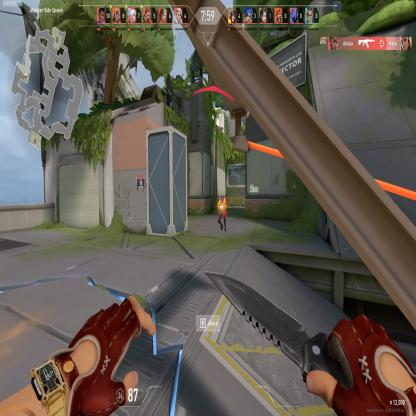enemy: (217, 190, 227, 234)
